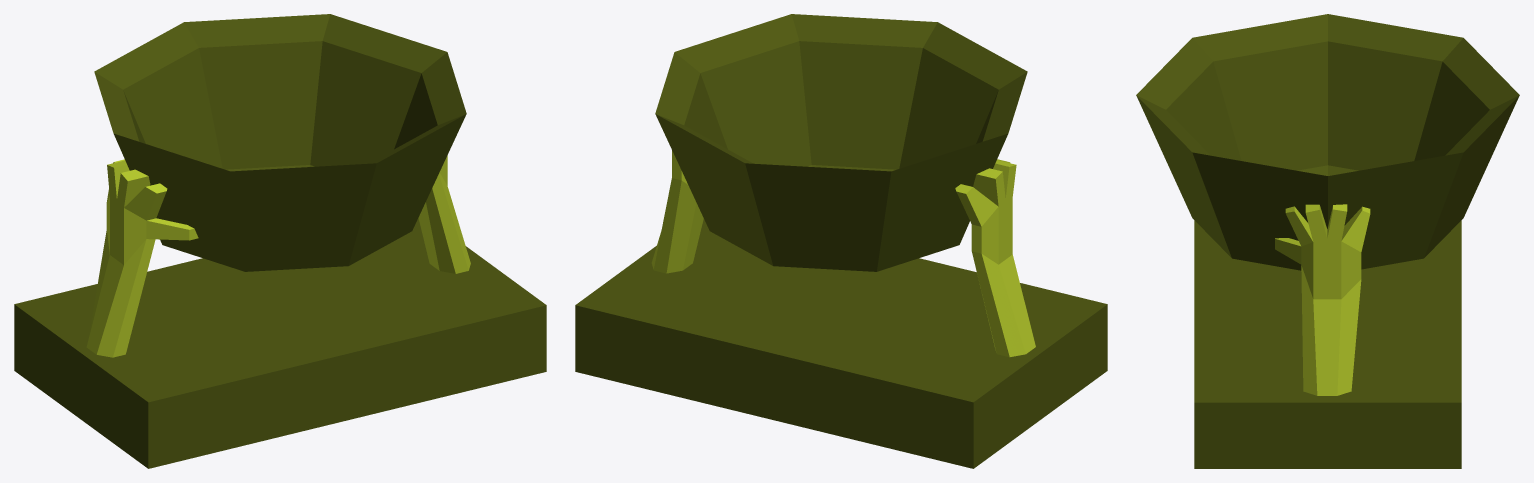
File: artifact_large.FBX
3 views of the same model, side by side, from view 1: azimuth 30°, elevation 25°; view 2: azimuth 150°, elevation 25°; view 3: azimuth 270°, elevation 25° (orthographic).
Visible parts, largest first — view 1: Box001; view 2: Box001; view 3: Box001.
Part boxes in pixels (<box>): Box001: <box>14,14,546,468</box>; Box001: <box>575,14,1107,468</box>; Box001: <box>1136,14,1519,468</box>.
Size of the model in its own units: 45.69 by 30.54 by 38.32.
